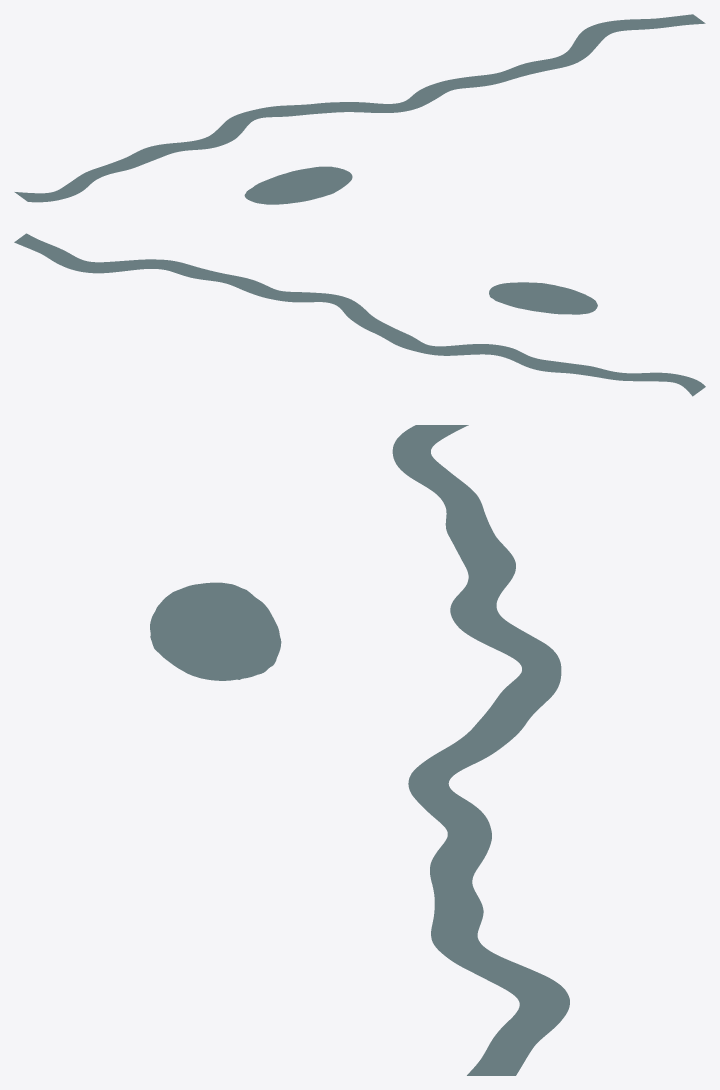
Rendered from TRB6-RIVER-001-v6.glb.
The picture shows the model from 3 angles, top to bottom: view 1: azimuth 30°, elevation 25°; view 2: azimuth 150°, elevation 25°; view 3: azimuth 270°, elevation 25°; orthographic projection. The views are drawn at different scales.
Parts seen in each view (by area): view 1: TRB6-RIVER-001-v6; view 2: TRB6-RIVER-001-v6; view 3: TRB6-RIVER-001-v6.
Boxes of the visible parts, box(x1,y1,x2,y2) form: TRB6-RIVER-001-v6: box(14, 14, 705, 204); TRB6-RIVER-001-v6: box(14, 233, 705, 396); TRB6-RIVER-001-v6: box(150, 425, 569, 1075).
Bounding box in the file's own units: 360 × 0 × 98.19.
